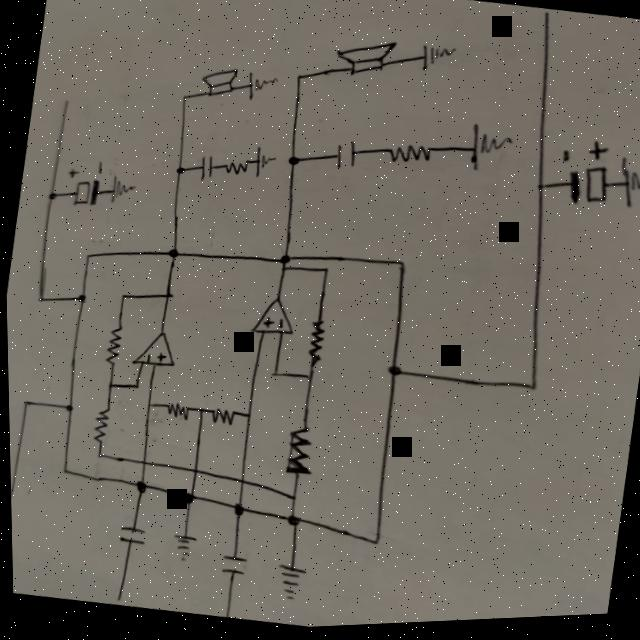capacitor: (550, 142, 614, 217), (60, 157, 106, 209), (329, 142, 360, 174), (215, 554, 245, 580), (113, 524, 144, 548), (193, 155, 216, 184)
ground: (462, 124, 516, 180), (611, 158, 640, 222), (270, 564, 303, 604), (417, 46, 458, 78), (243, 73, 277, 105), (105, 175, 138, 206), (166, 533, 194, 567), (250, 150, 274, 182)
junction: (156, 244, 190, 268), (278, 512, 304, 534), (280, 152, 305, 173), (270, 251, 296, 271), (225, 501, 249, 521), (380, 365, 403, 383), (177, 489, 197, 509), (129, 479, 149, 496), (520, 383, 540, 400), (390, 260, 410, 276), (363, 538, 382, 553), (170, 165, 189, 179), (70, 292, 88, 306), (59, 401, 75, 415), (531, 185, 548, 198), (276, 264, 292, 277), (159, 290, 174, 303), (43, 191, 58, 203), (300, 373, 315, 385), (284, 494, 298, 506), (186, 467, 201, 478), (129, 381, 142, 393), (293, 73, 306, 85), (318, 266, 331, 278), (136, 457, 149, 469), (91, 450, 105, 461), (267, 370, 280, 381), (33, 294, 46, 305), (103, 381, 116, 392), (234, 478, 247, 489), (179, 93, 191, 104), (19, 397, 31, 408), (57, 466, 70, 476), (241, 411, 252, 422), (81, 251, 93, 261), (194, 406, 205, 416), (144, 402, 156, 411), (118, 293, 129, 301)
resistor: (278, 427, 313, 480), (383, 145, 431, 172), (301, 320, 326, 368), (98, 328, 120, 370), (88, 407, 109, 446), (203, 408, 234, 428), (162, 401, 189, 422), (221, 159, 248, 180)
terminal: (539, 14, 554, 25), (110, 593, 122, 605), (61, 98, 72, 107), (218, 612, 229, 620), (9, 495, 13, 505)
